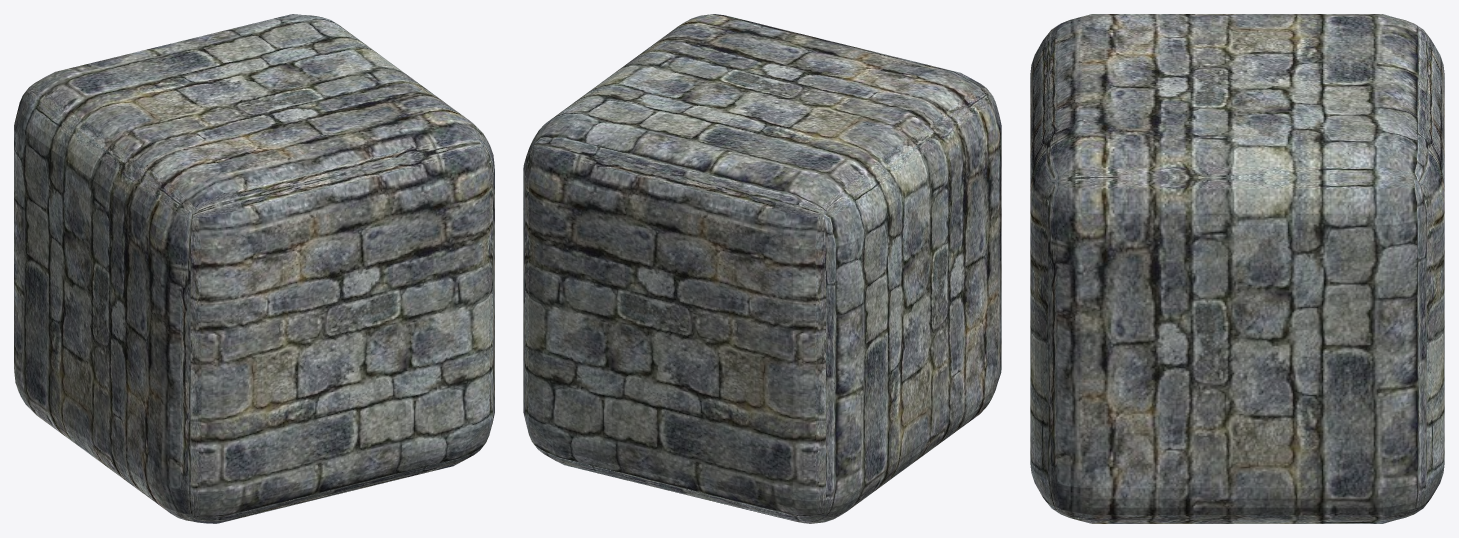
File: round_cube.obj
3 views of the same model, side by side, from view 1: azimuth 30°, elevation 25°; view 2: azimuth 150°, elevation 25°; view 3: azimuth 270°, elevation 25° (orthographic). The views are drawn at different scales.
Visible parts, largest first — view 1: cube; view 2: cube; view 3: cube.
Part boxes in pixels (left/top/right/bottom): cube: left=14, top=14, right=494, bottom=523; cube: left=523, top=14, right=1001, bottom=523; cube: left=1030, top=14, right=1444, bottom=523.
Size of the model in its own units: 1 by 1 by 1.
Materials: 1 (1 with a texture image).
